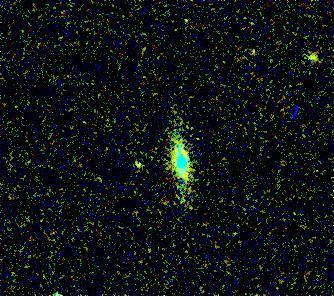star: (121, 151, 151, 181)
